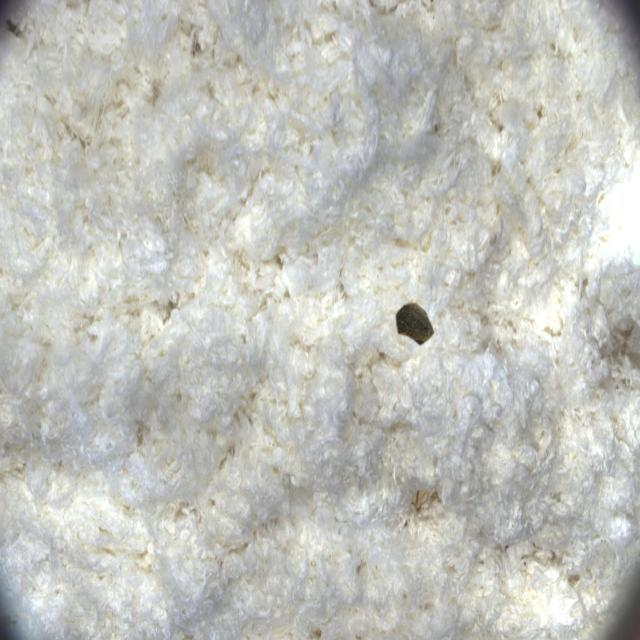dust: (385, 280, 455, 373)
